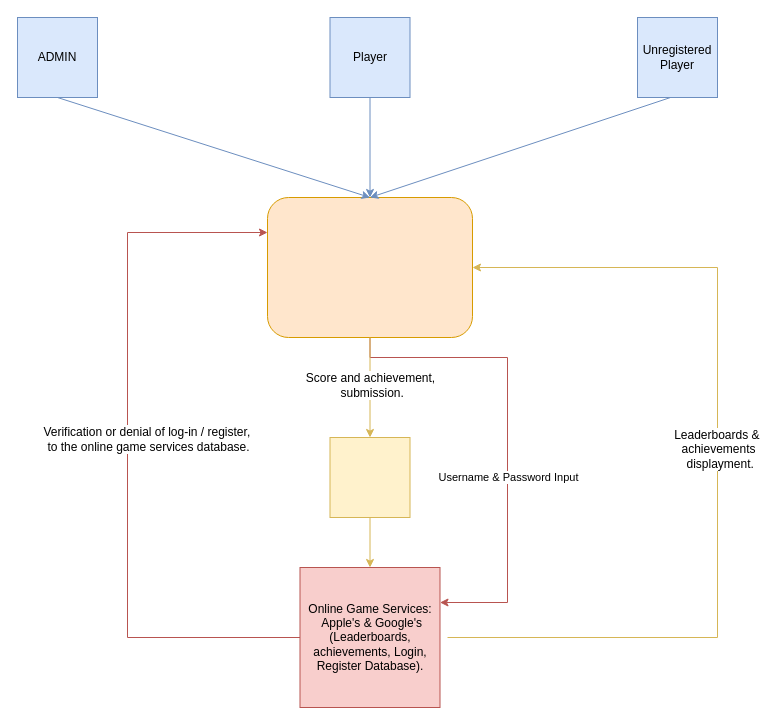
Image size: 780x725. Some labels were removed from this diagram. Here are the shapes that lost their labels. From the top down, the centre of each, then its label:
the point at 369,267: MOBILE VIDEO GAME
the point at 369,477: Game Manager Feature
